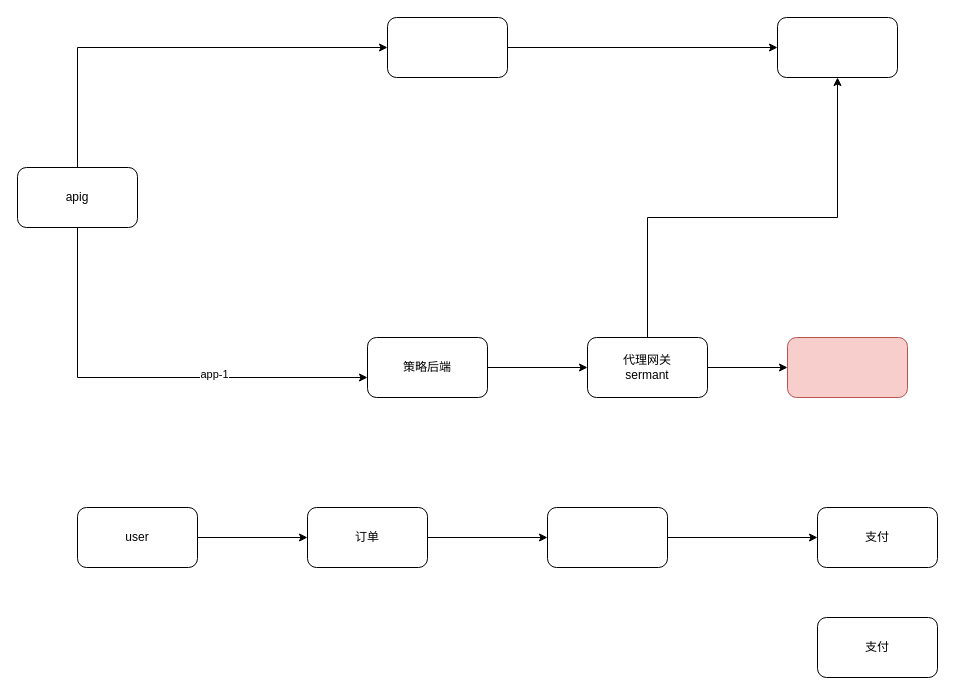
Some shapes in this 955 by 695 pixel diagram are drawn without their labels. Here are the shapes that lost their labels. From the top down, the box of each, then its label:
(386, 16, 508, 78): 默认后端
(776, 16, 898, 78): 基线服务
(786, 336, 908, 398): 灰度服务
(546, 506, 668, 568): 库存
